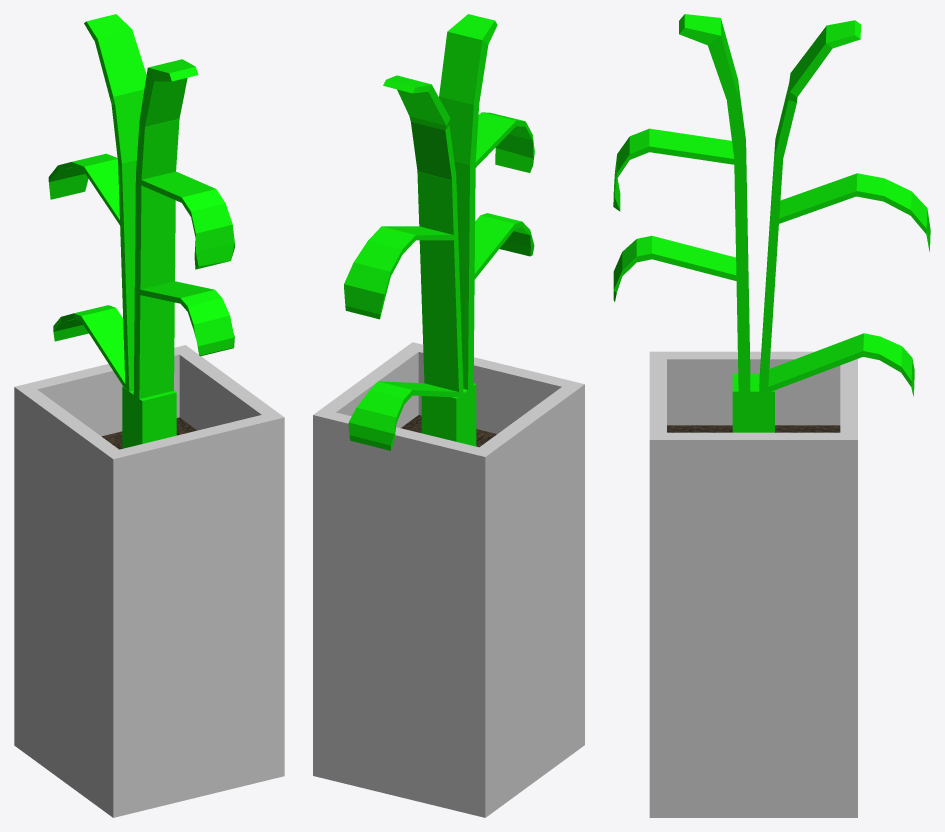
File: plant in pot.fbx
The picture shows the model from 3 angles, left to right: view 1: azimuth 30°, elevation 25°; view 2: azimuth 150°, elevation 25°; view 3: azimuth 270°, elevation 25°; orthographic projection. The views are drawn at different scales.
Parts seen in each view (by area): view 1: plant in pot; view 2: plant in pot; view 3: plant in pot.
Part boxes in pixels (x1,y1,x2,y2): plant in pot: (14,14,284,817); plant in pot: (313,14,584,817); plant in pot: (613,14,930,817).
Size of the model in its own units: 100 by 398 by 152.
3 materials, 1 textured.
